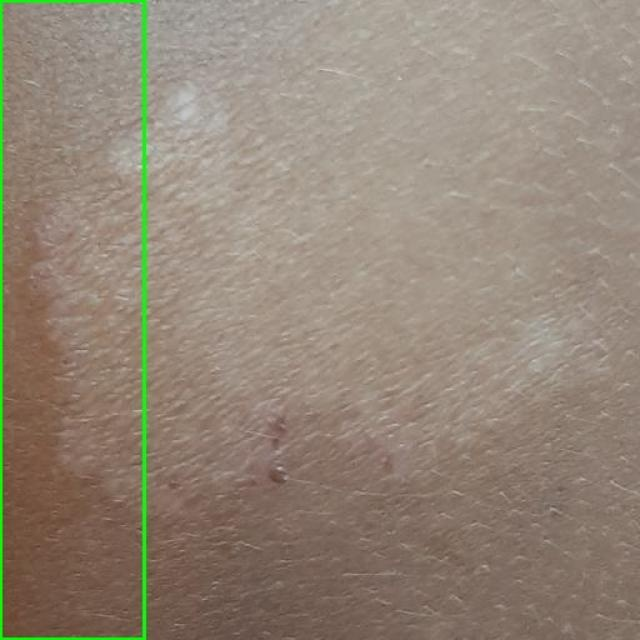Seborrheic Dermatitis: (0, 0, 144, 639)
